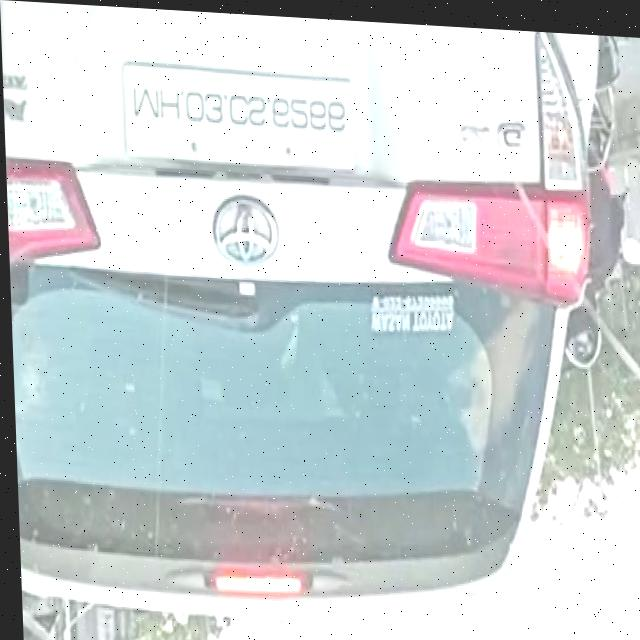plate: (120, 58, 357, 168)
